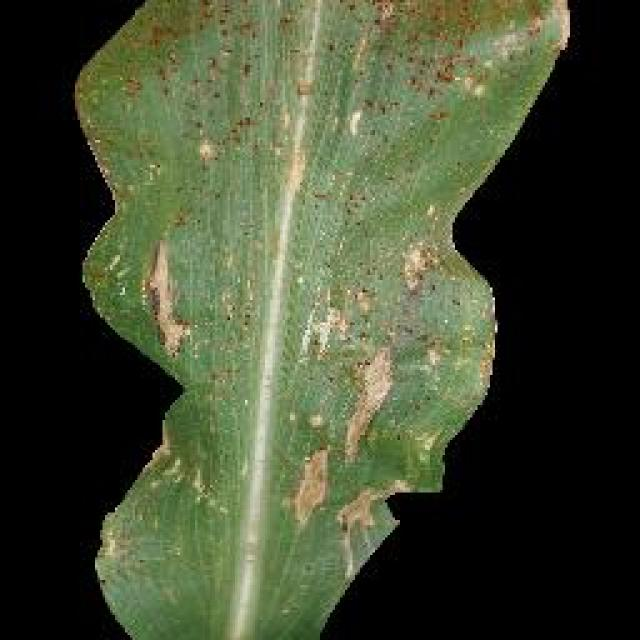Corn Common Rust: (92, 42, 540, 528)
